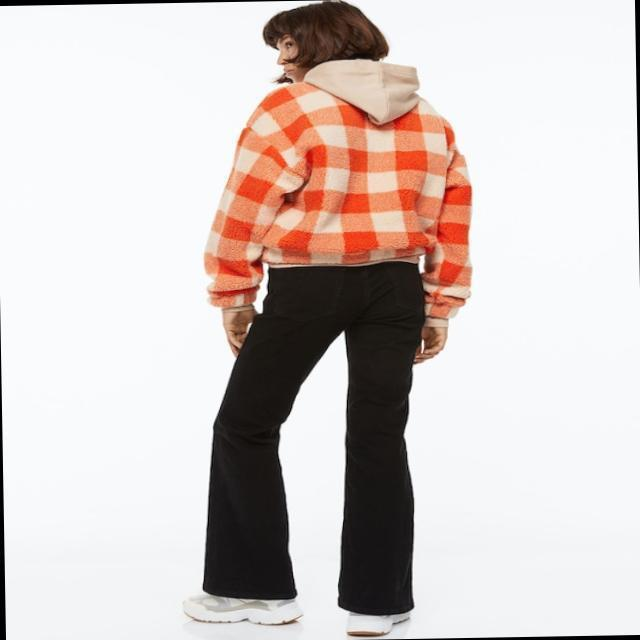sweater: (203, 58, 474, 326)
trousers: (198, 256, 428, 615)
